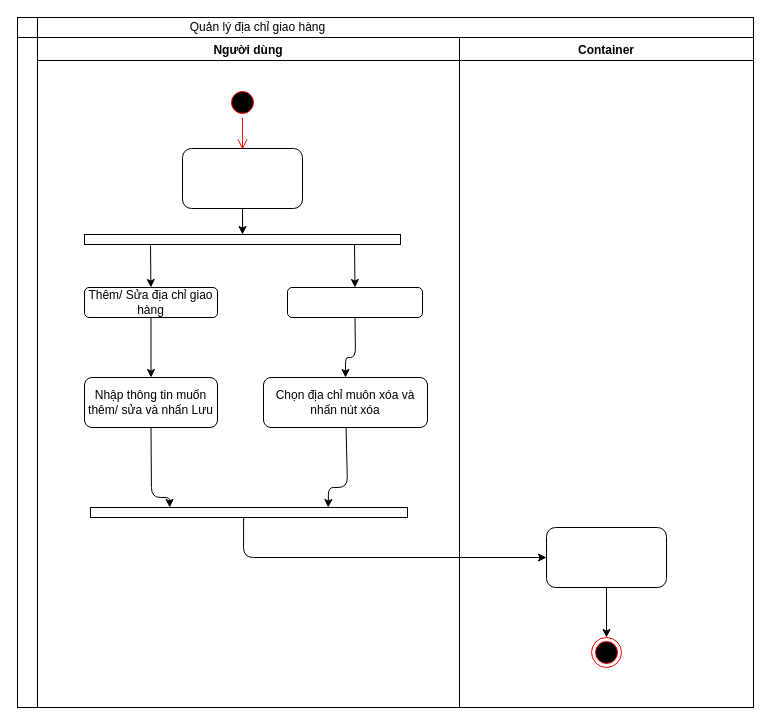
Some shapes in this 771 by 725 pixel diagram are drawn without their labels. Each missing label, with the centre of its shape:
Tiến hành xử lý và đưa ra thông báo thành công hoặc thất bại: [606,557]
Vào giao diện địa chỉ giao hàng: [242,178]
Xóa địa chỉ giao hàng: [354,302]
